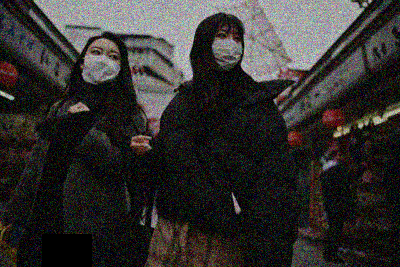with_mask: (82, 43, 123, 83), (211, 27, 244, 70)
